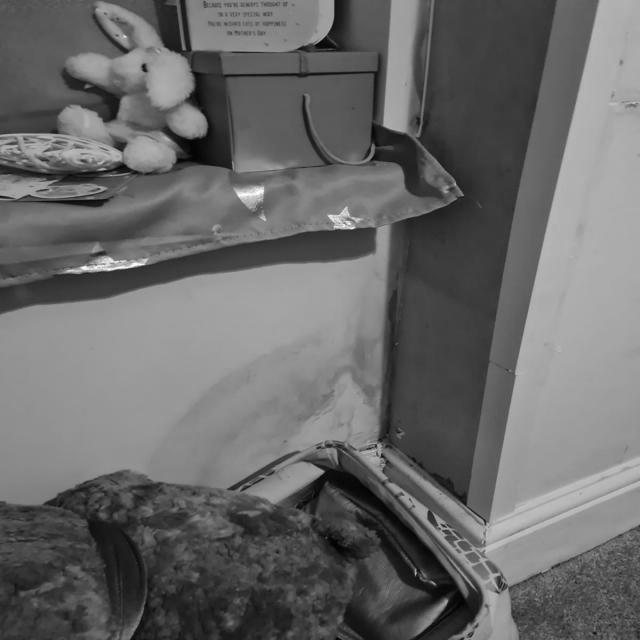stain marks: (144, 311, 326, 490), (322, 258, 432, 450)
